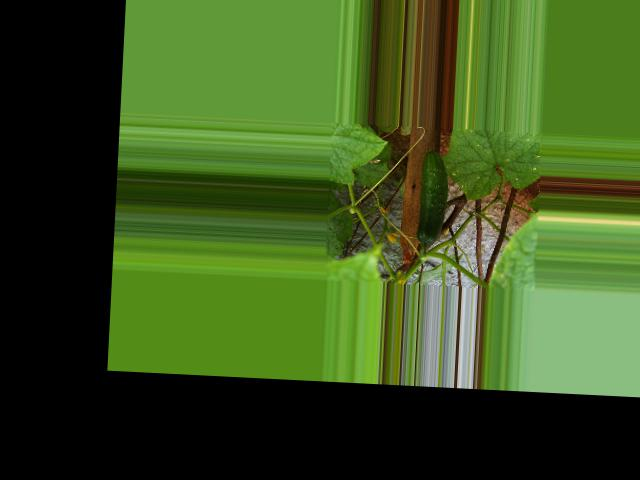cucumber: (415, 149, 449, 245)
